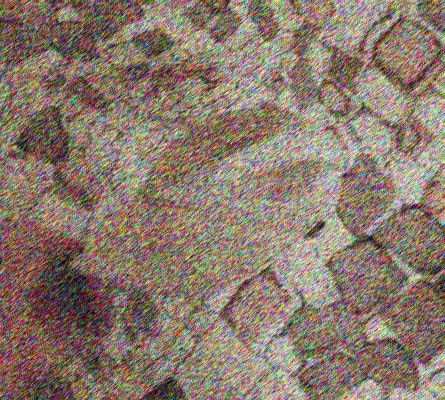Hat: (71, 58, 369, 329)
